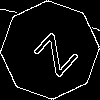Z: (25, 25, 79, 79)
